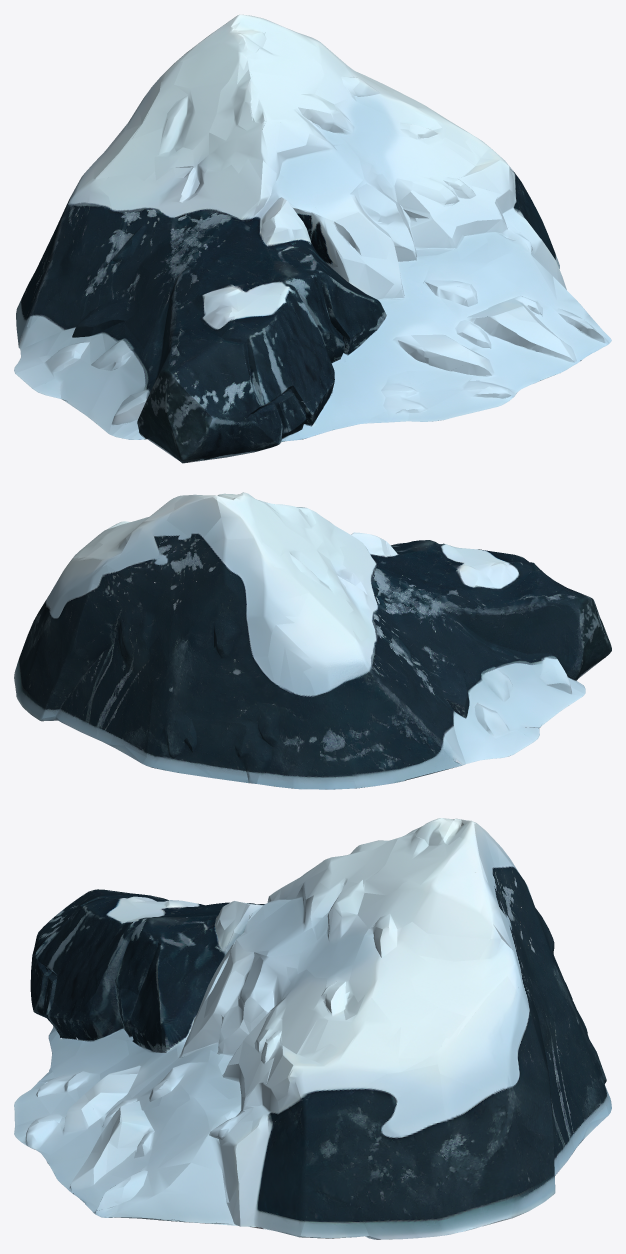
The model's file is cover_half_snow.B.raw.glb.
The picture shows the model from 3 angles, top to bottom: view 1: azimuth 30°, elevation 25°; view 2: azimuth 150°, elevation 25°; view 3: azimuth 270°, elevation 25°; orthographic projection. The views are drawn at different scales.
Bounding box in the file's own units: 1.9 × 0.8954 × 1.68.
1 material, 1 textured.
